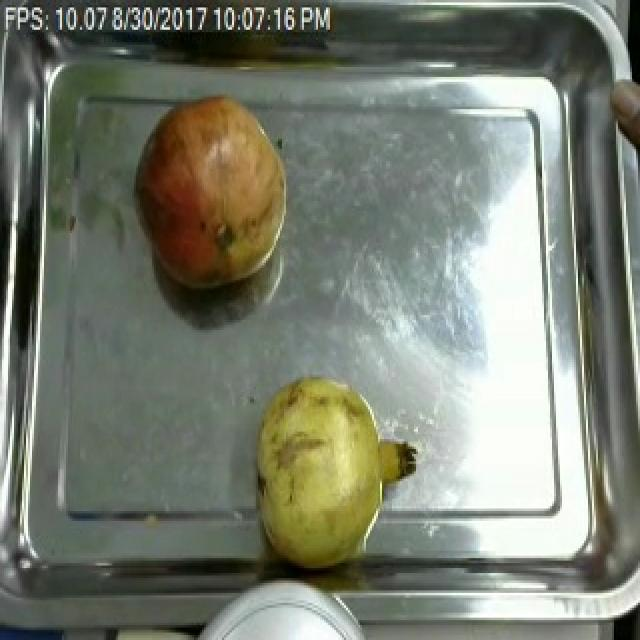fruit: (246, 362, 424, 576), (130, 84, 300, 300), (606, 67, 640, 169)
